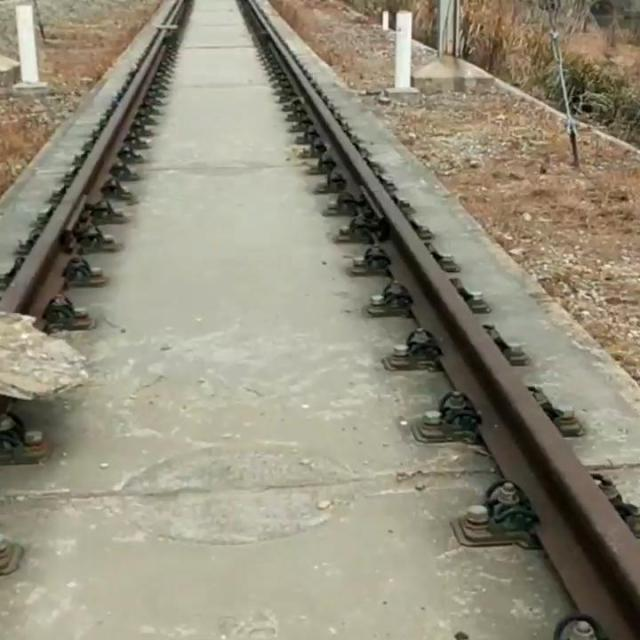rail: (241, 0, 640, 634), (0, 30, 175, 330), (163, 0, 194, 21)
